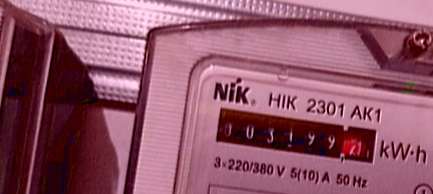0: (221, 119, 235, 138), (244, 121, 256, 140)
1: (286, 123, 296, 143)
3: (265, 126, 274, 145)
6: (347, 143, 358, 159)
9: (325, 133, 336, 151), (306, 128, 315, 147)
screen: (209, 103, 384, 171)
